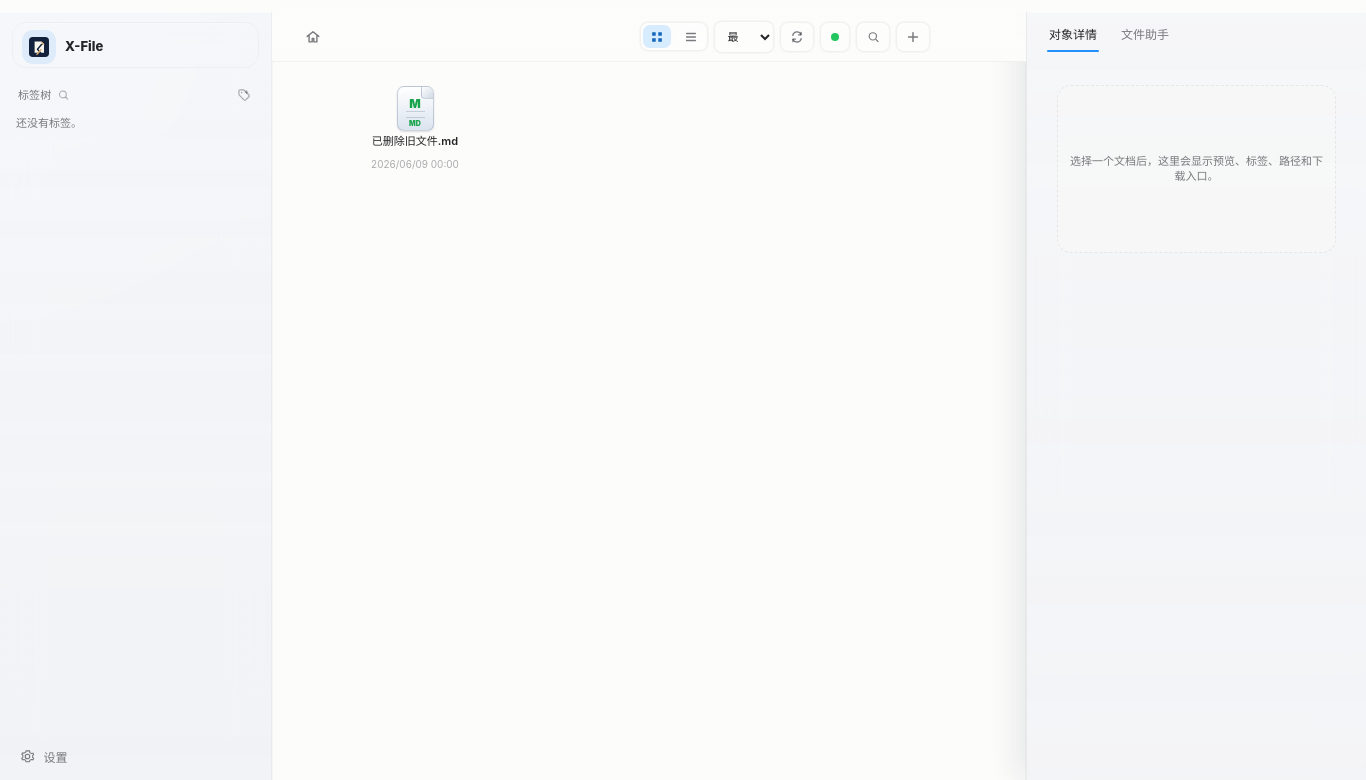
第 6 批：索引状态、刷新策略和缓存替换 › 接口返回新列表后替换旧缓存，已删除文件不会继续显示
Expected: the text "已删除旧文件.md" is shown, [368,135,462,149]
Click the button named "刷新文档库": [797, 36] box [780,22,814,52]
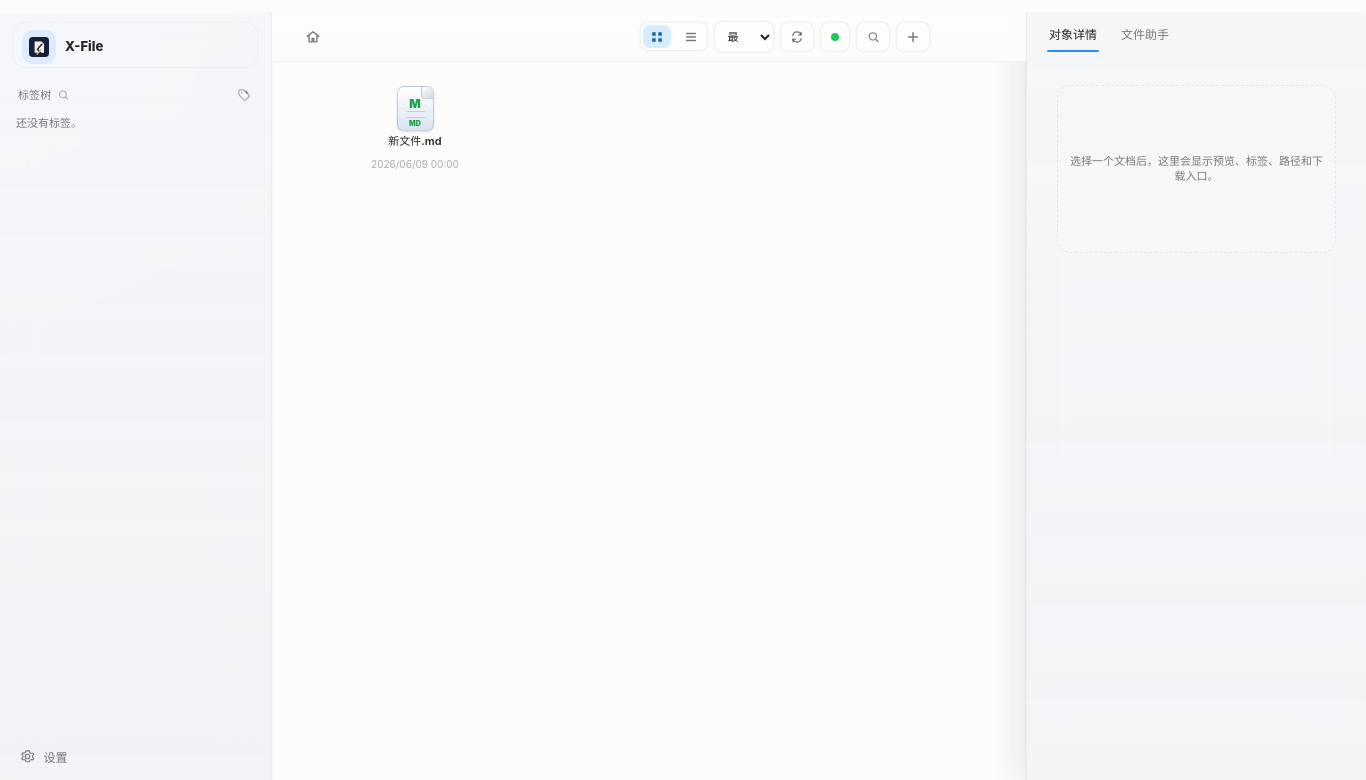
Expected: the text "新文件.md" is shown, [389,134,442,148]
Expected: the button "已删除旧文件.md" is gone
